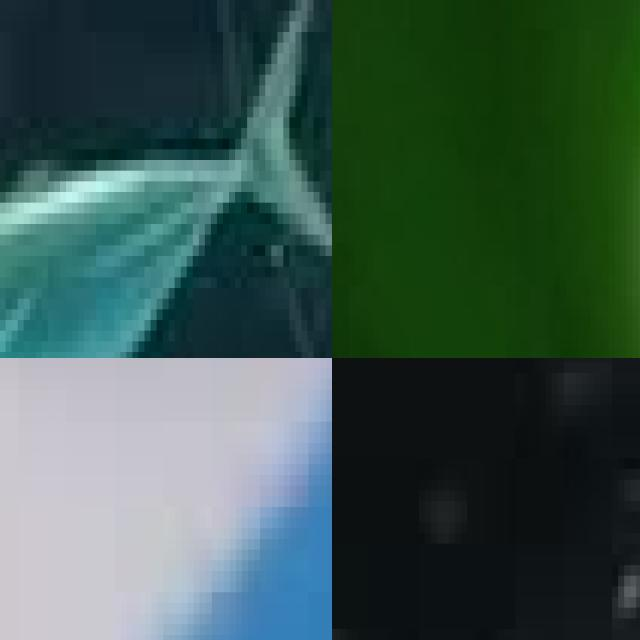fish: (0, 0, 332, 358), (332, 358, 640, 640)
